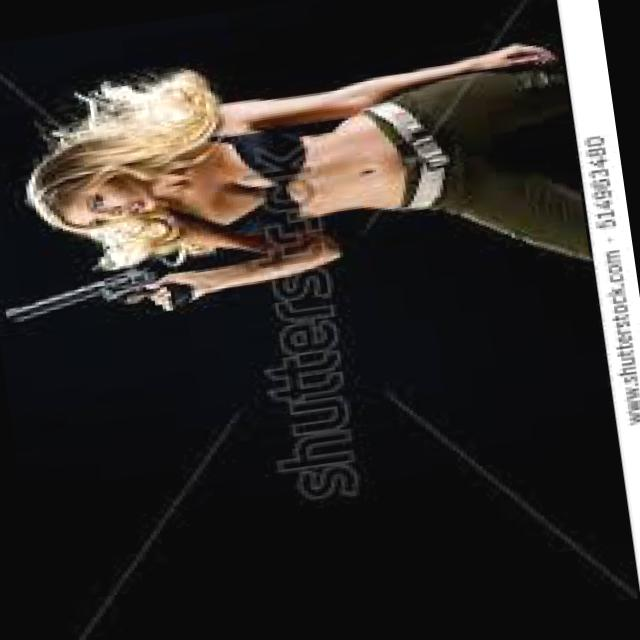handgun: (0, 261, 196, 348)
